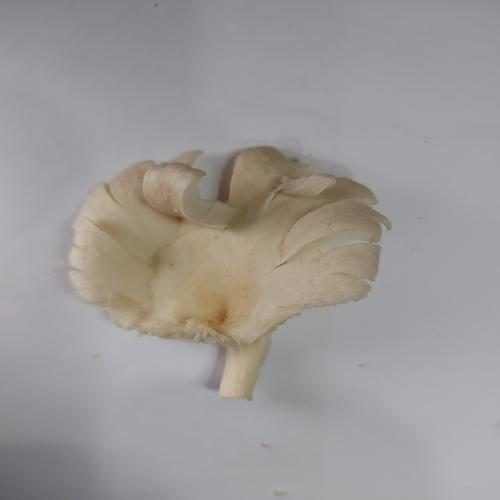Oyster Mushroom: (66, 145, 392, 401)
